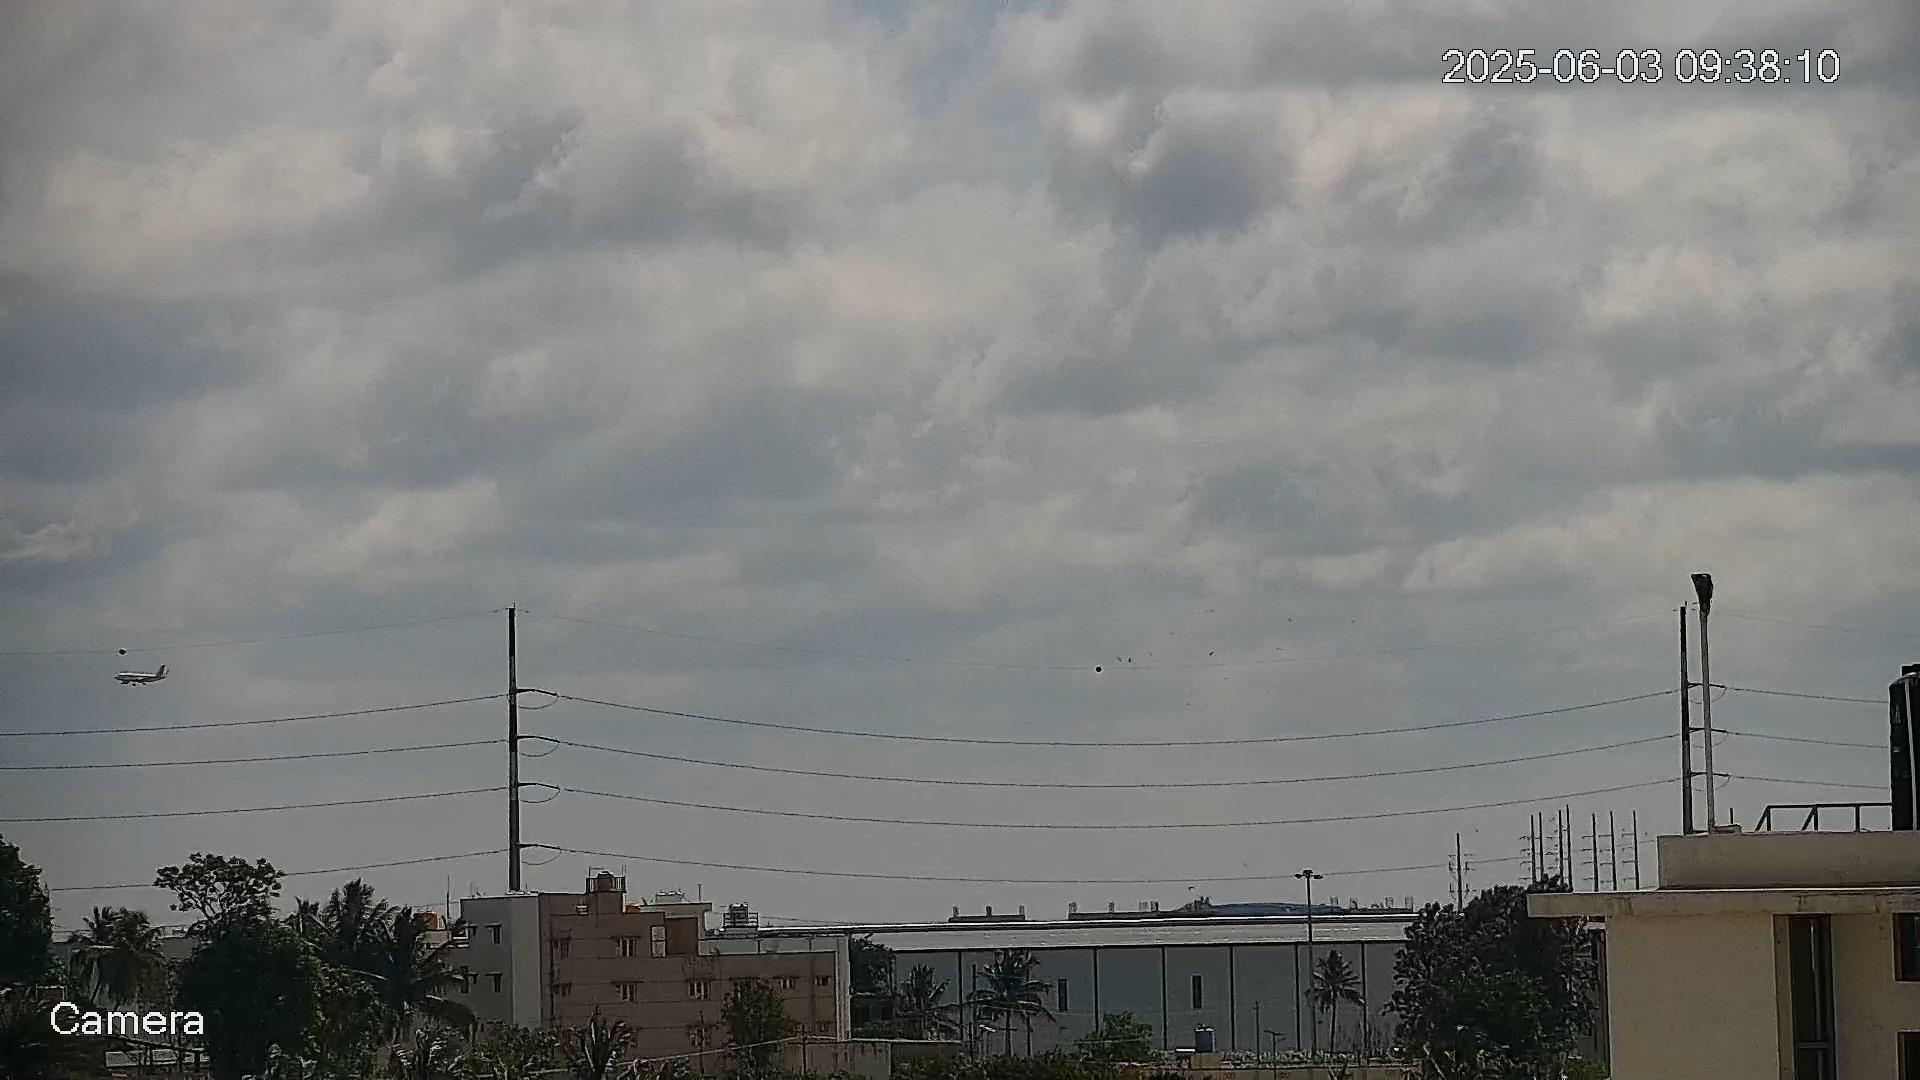Aircraft: (113, 663, 170, 686)
